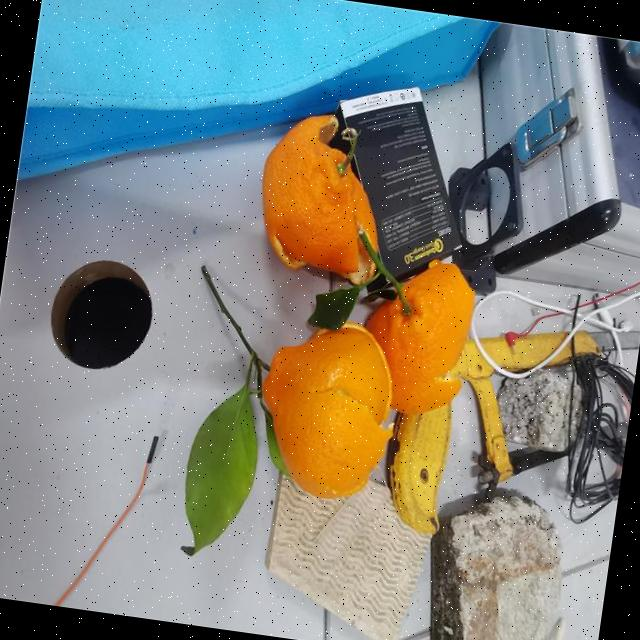orange-peel: (246, 311, 406, 506), (249, 104, 397, 283), (354, 250, 482, 421)
